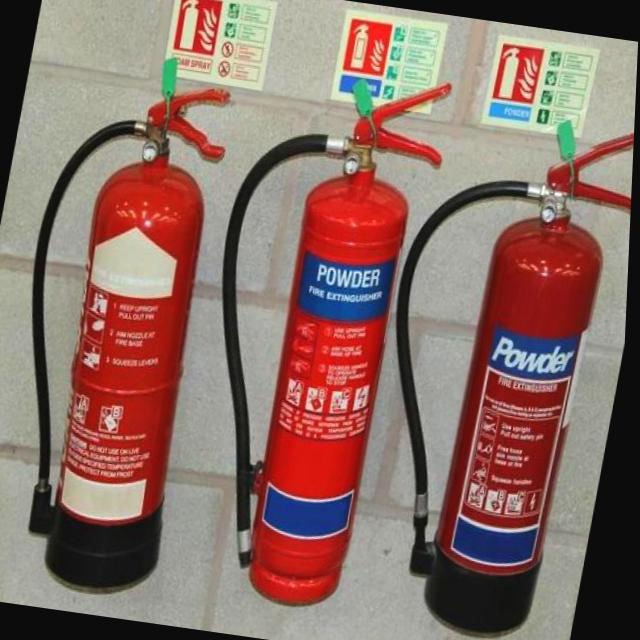FireExtinguisher: (162, 50, 462, 620), (341, 98, 637, 640), (0, 62, 249, 600)
